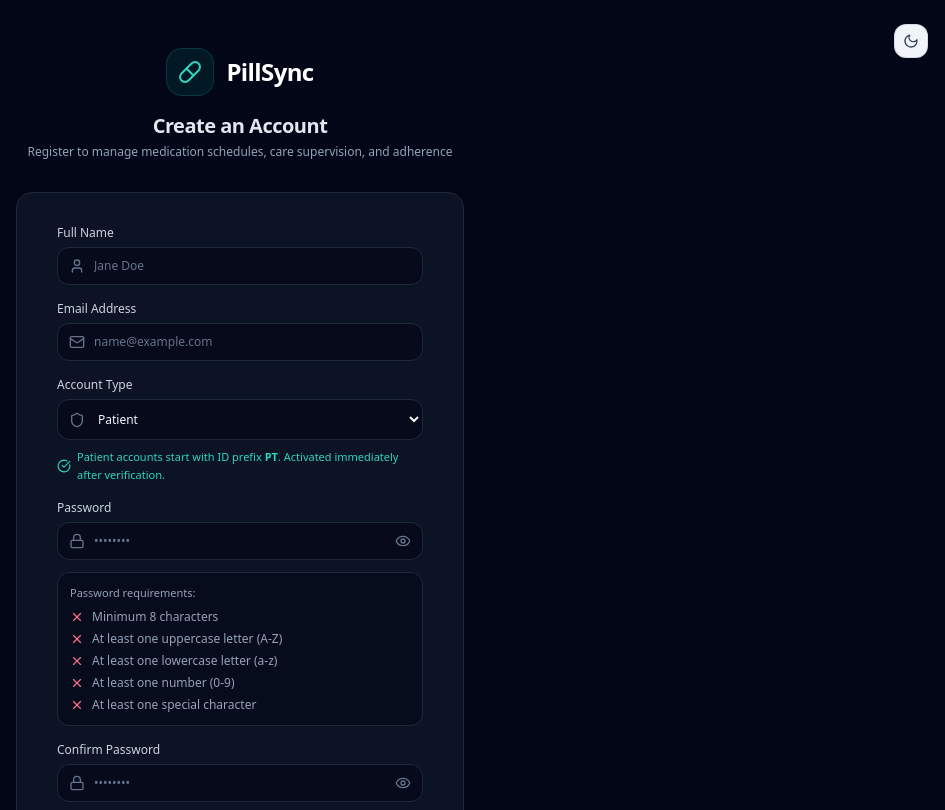
Register Component - Dynamic Role Selection & Single-Admin Rule › shows live password match and mismatch feedback and controls submit button state
Type "Jane Patient" into the field labelled "Full Name". click: (240, 266)
box: left=57, top=247, right=423, bottom=285
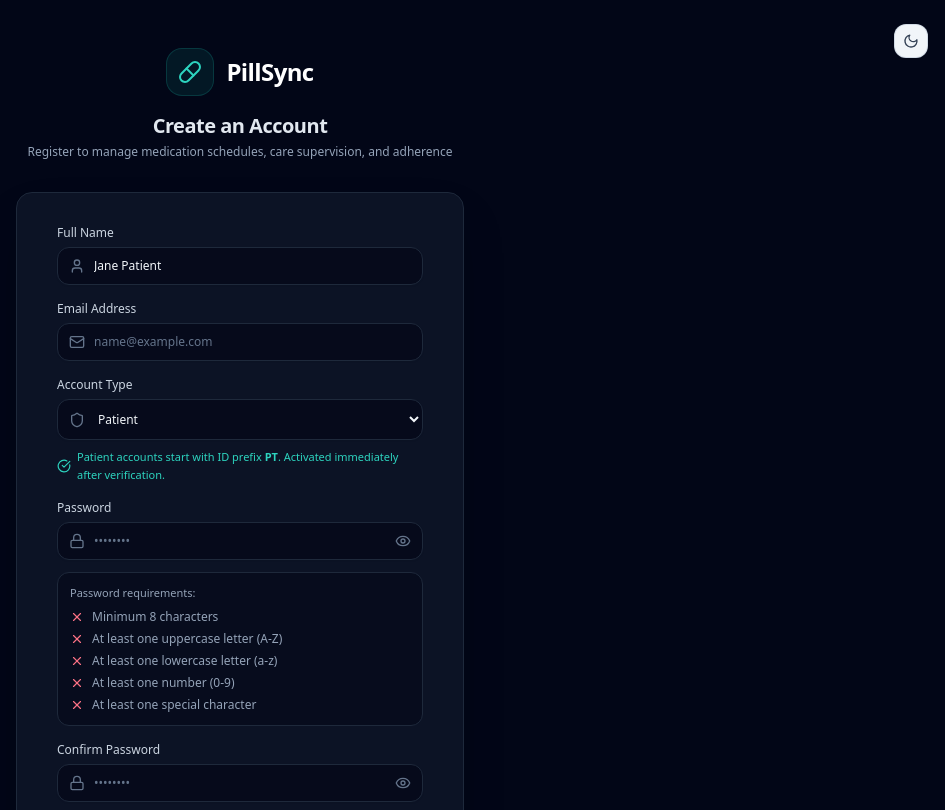
Type "jane@example.com" into the field labelled "Email Address". click: (240, 342)
box: left=57, top=323, right=423, bottom=361
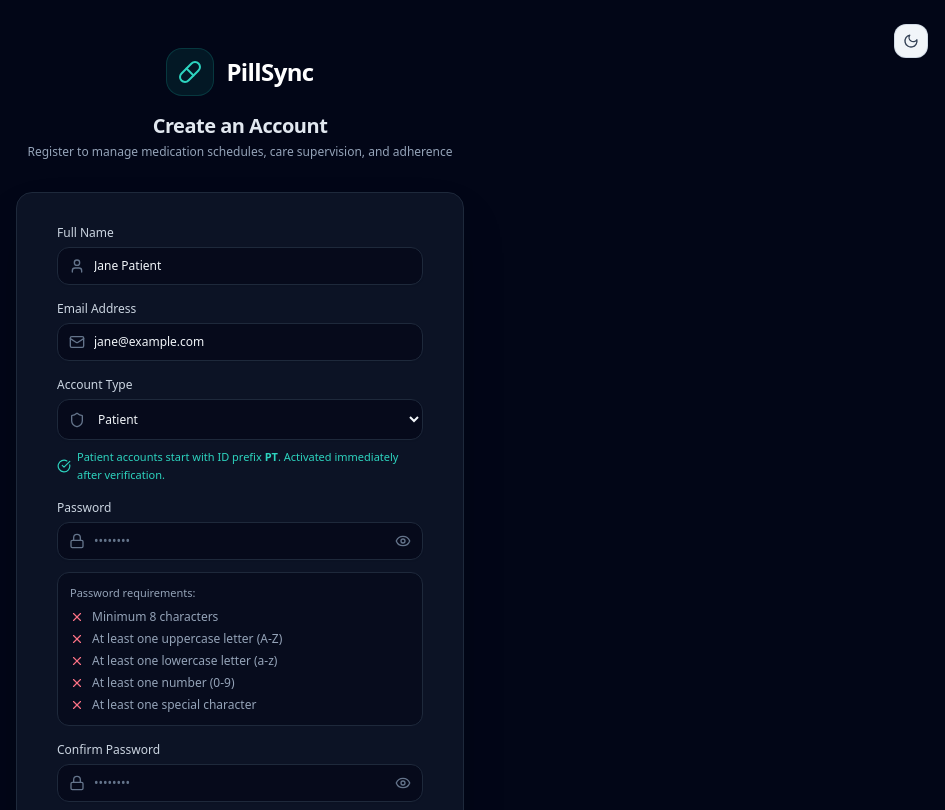
Type "Bigshot@143" into the password field labelled "Password". click: (240, 541)
box: left=57, top=522, right=423, bottom=560
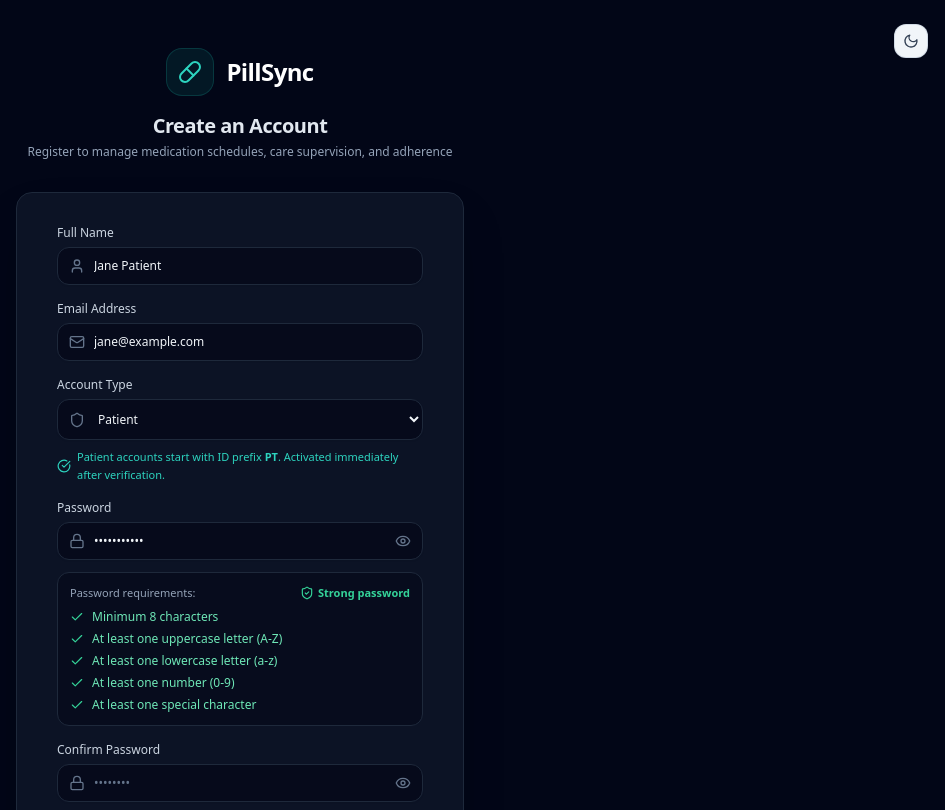
Note: Mismatched confirm password
Type "bigshot@143" into the password field labelled "Confirm Password". click: (240, 783)
box: left=57, top=764, right=423, bottom=802
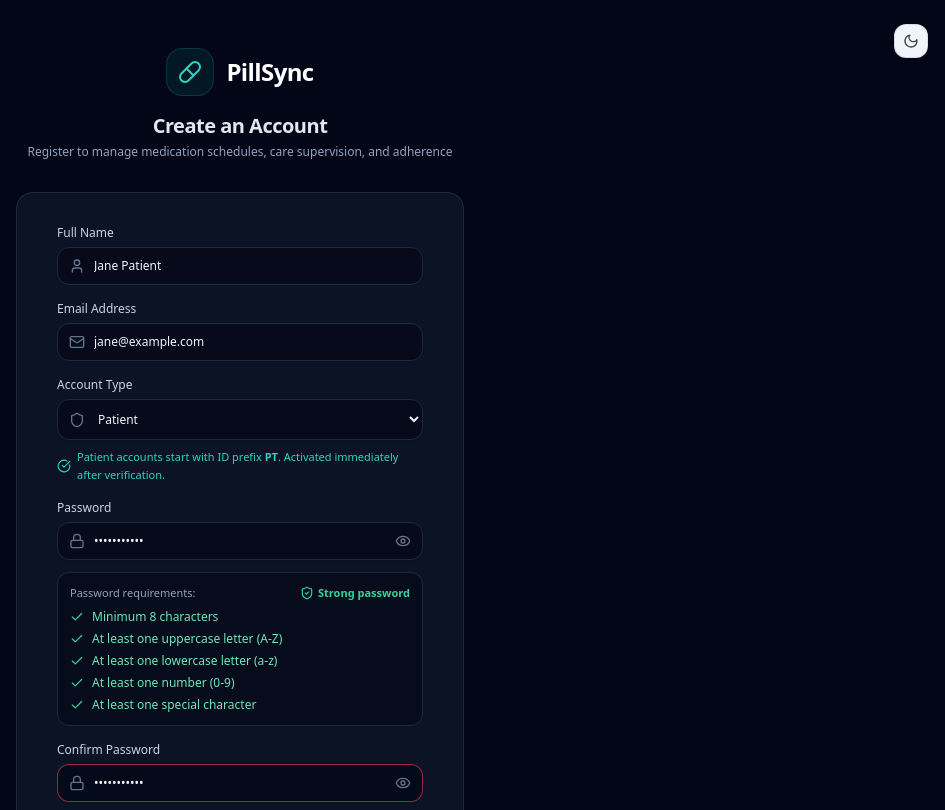
Note: Matched confirm password
Type "Bigshot@143" into the password field labelled "Confirm Password". click: (240, 783)
box: left=57, top=764, right=423, bottom=802
(page scrolled)
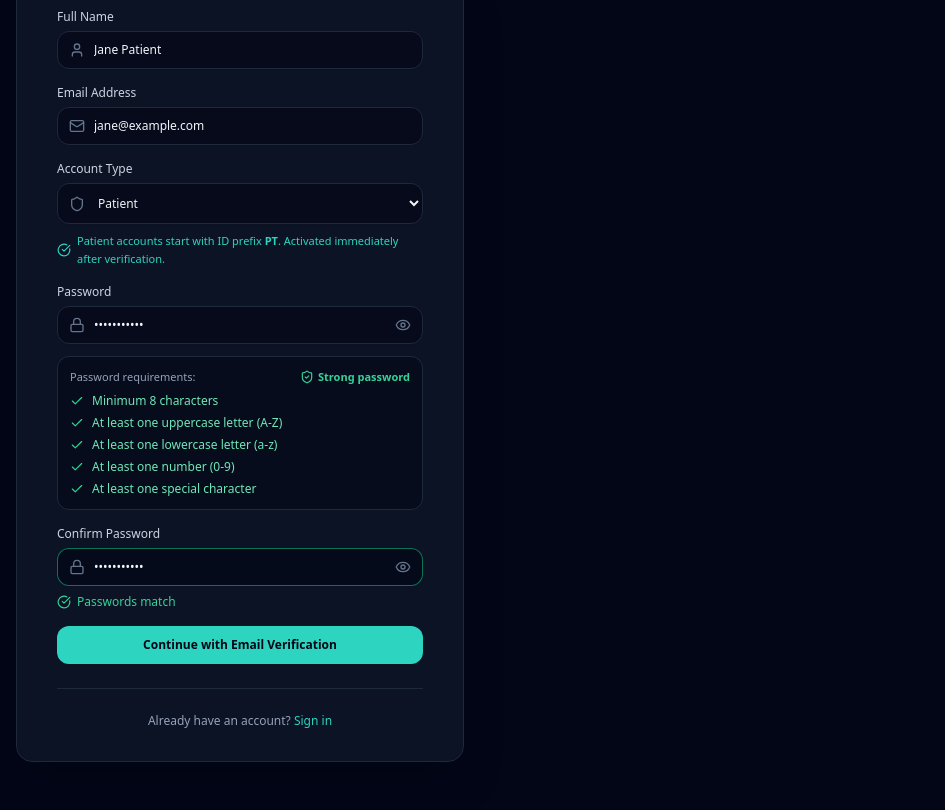
Now the text "Passwords match" is shown, box left=77, top=594, right=176, bottom=610
Now the button "Continue with Email Verification" is enabled, box left=57, top=626, right=423, bottom=664
